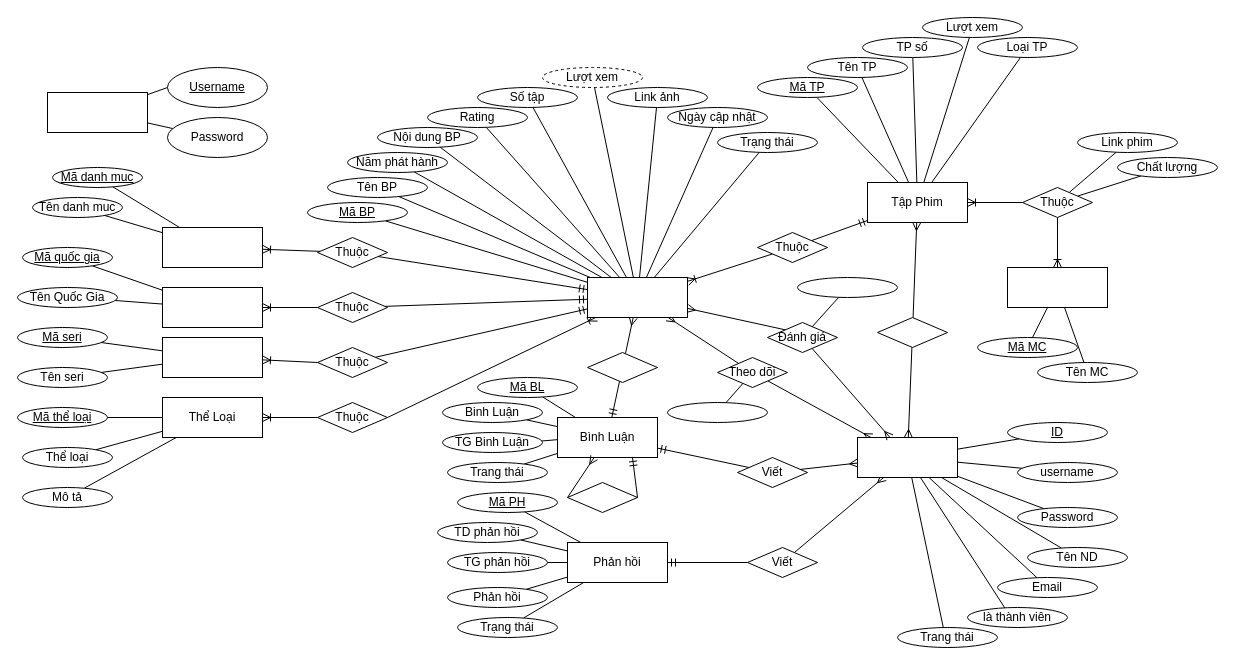
This 1235x666 diagram has some shape labels left out. Each missing label, with the centre of its shape:
Admin: point 97,112
Bộ Phim: point 637,297
Có: point 622,367
Danh Mục: point 212,247
Máy chủ phim: point 1057,287
Người dùng: point 907,457
Quốc Gia: point 212,307
Seri Phim: point 212,357
Trả lời: point 602,497
Xem: point 912,332
Đang TD: point 717,412
Điểm DG: point 847,287
